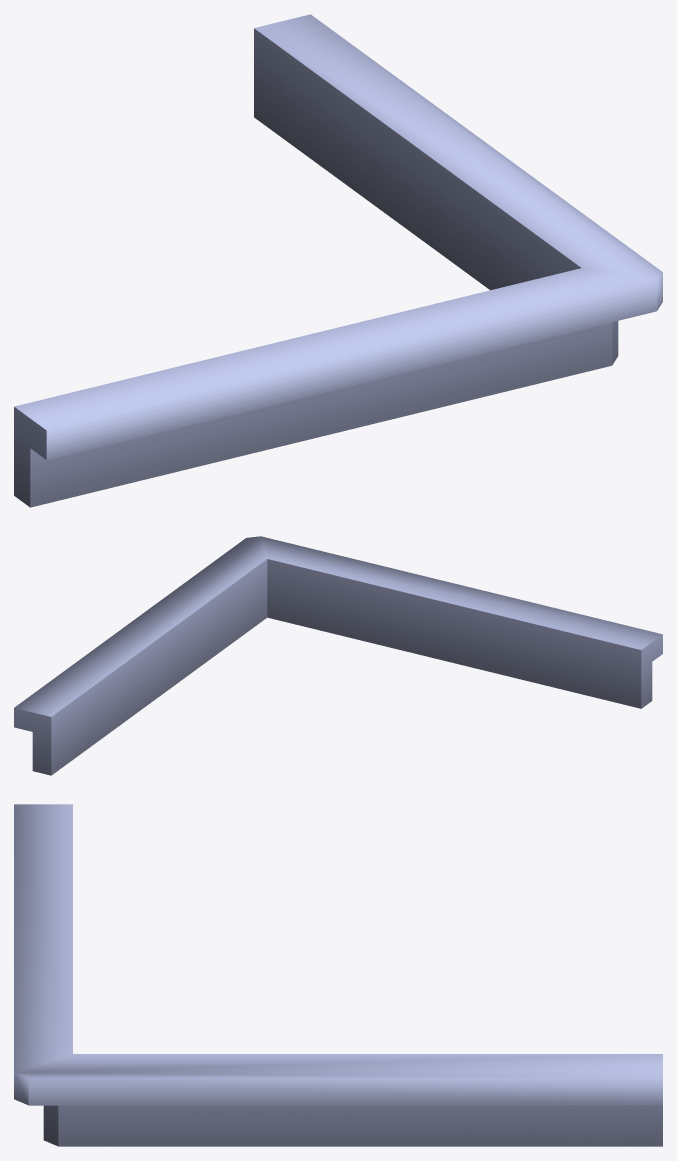
The model's file is opengameart-kenney-building-kit_9.glb.
The picture shows the model from 3 angles, top to bottom: view 1: azimuth 30°, elevation 25°; view 2: azimuth 150°, elevation 25°; view 3: azimuth 270°, elevation 25°; orthographic projection. The views are drawn at different scales.
Parts seen in each view (by area): view 1: border-corner; view 2: border-corner; view 3: border-corner.
Boxes of the visible parts, x1,y1,x2,y2 form: border-corner: (14, 14, 662, 507); border-corner: (14, 536, 662, 775); border-corner: (14, 804, 662, 1146).
Bounding box in the file's own units: 2.2 × 0.3 × 2.2.
1 material, 1 textured.
